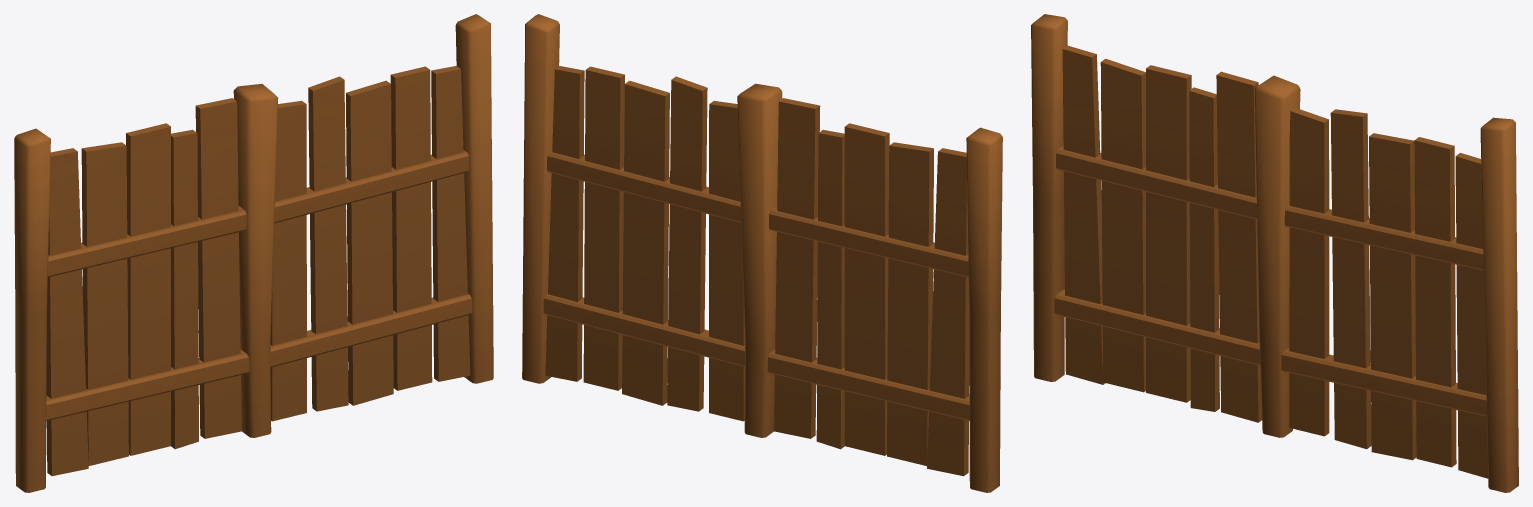
File: WallFence_2_2_E.glb
3 views of the same model, side by side, from view 1: azimuth 30°, elevation 25°; view 2: azimuth 150°, elevation 25°; view 3: azimuth 330°, elevation 25° (orthographic).
Parts seen in each view (by area): view 1: WallFence_2_2_E; view 2: WallFence_2_2_E; view 3: WallFence_2_2_E.
Part boxes in pixels (box(x1,y1,x2,y2)): WallFence_2_2_E: box(14, 14, 493, 492); WallFence_2_2_E: box(522, 14, 1002, 492); WallFence_2_2_E: box(1031, 14, 1518, 492).
Bounding box in the file's own units: 2.09 × 1.52 × 0.143.
Materials: 1 (1 with a texture image).
